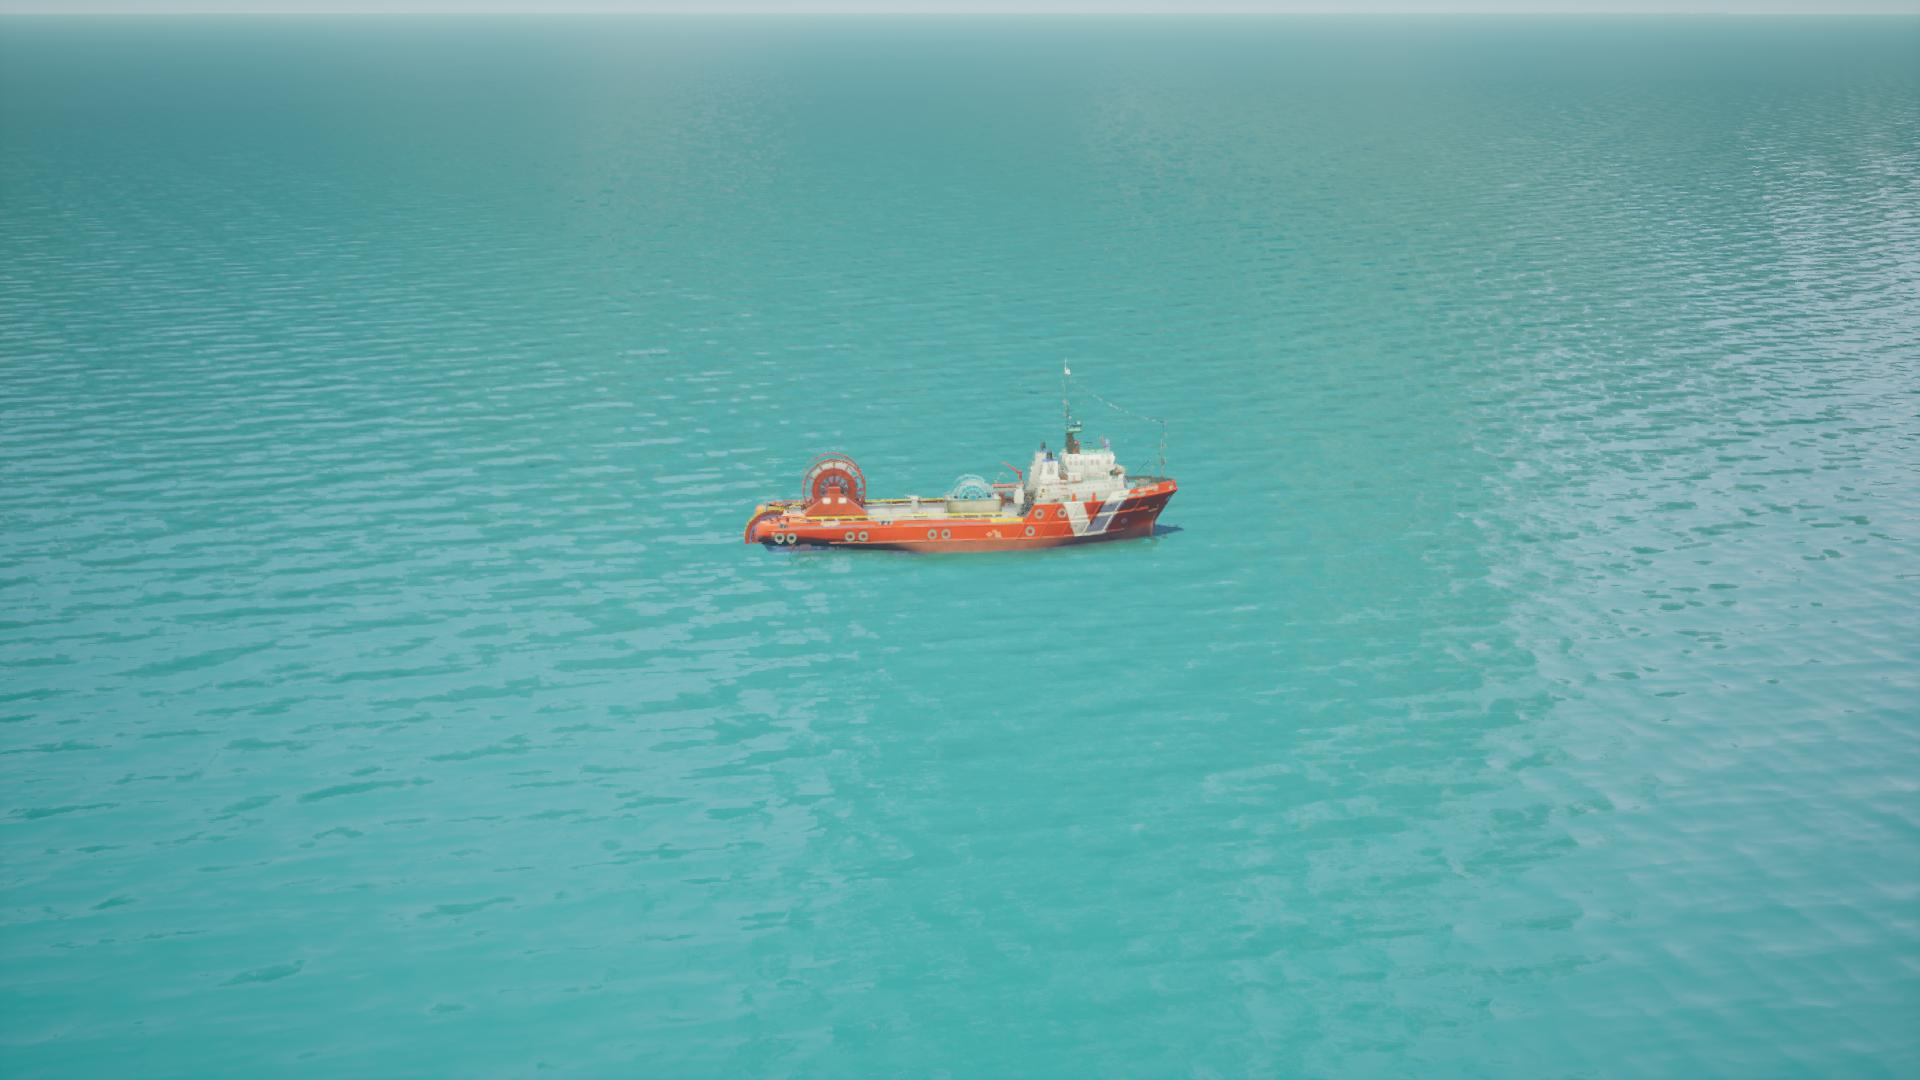Tug Boat: (744, 434, 1179, 562)
